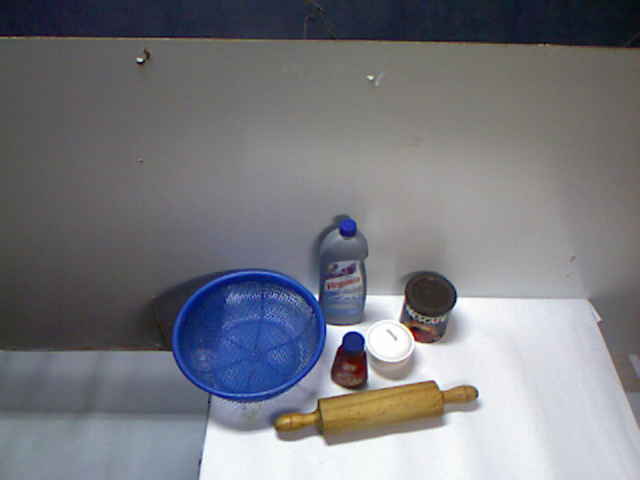cloro: (388, 256, 460, 356)
cubix: (221, 343, 268, 395)
harina: (235, 265, 303, 352)
leche: (311, 265, 376, 353)
limon: (285, 349, 333, 402)
platano: (351, 351, 461, 416)
